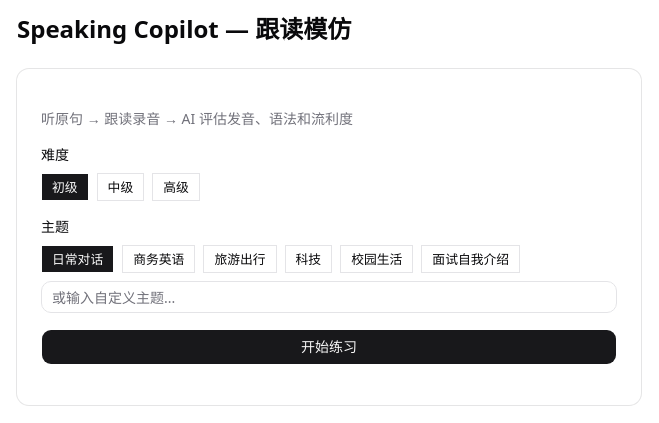
Test case: SpeakingPage › transitions to speaking phase when sentences are generated
Click the button "开始练习". click: (329,347)
box: [41,329,617,365]
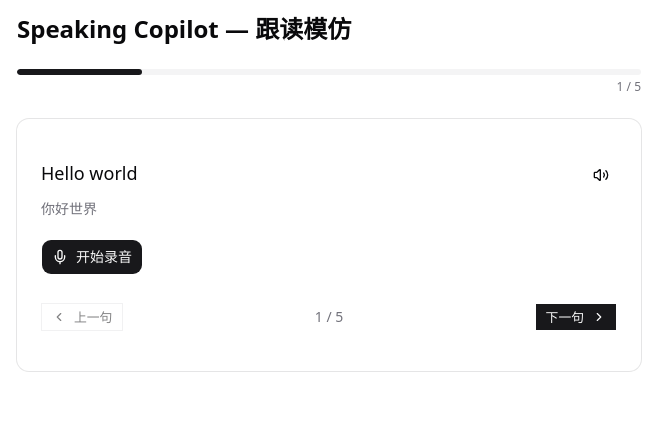
Now the text "Hello world" is shown, box [41,159,138,188]
Now the button "开始录音" is shown, box [41,239,143,275]
Now the text "你好世界" is shown, box [41,199,97,218]
